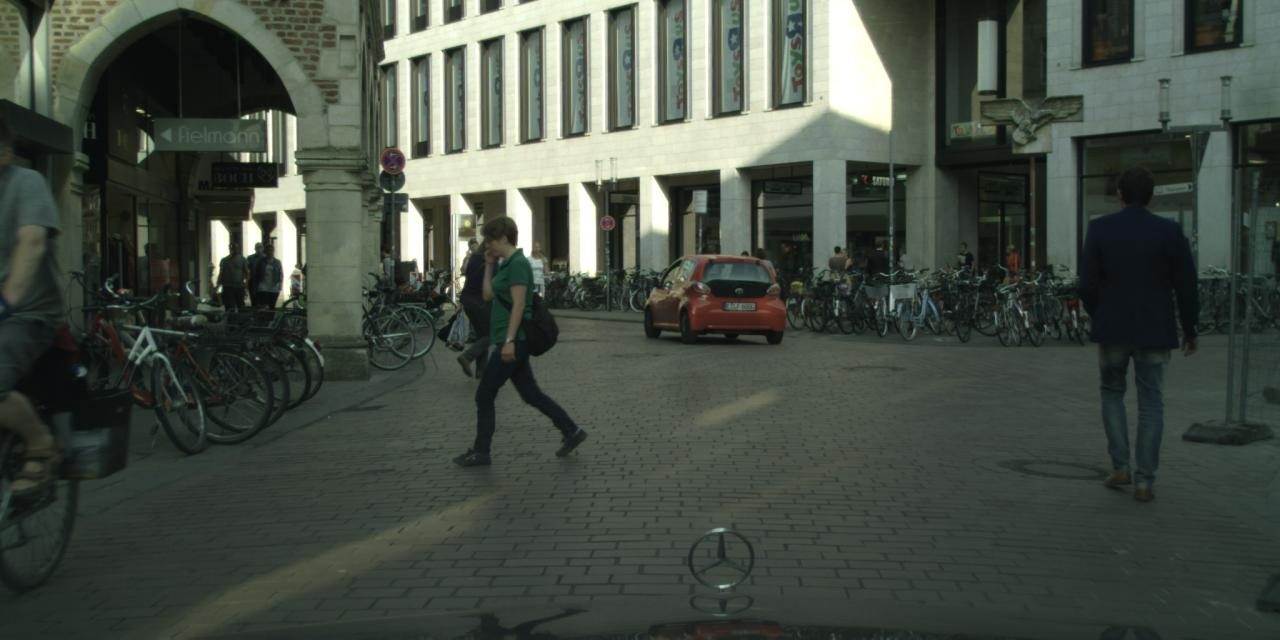ped: (1067, 164, 1200, 490), (461, 215, 560, 456), (455, 233, 512, 374), (217, 241, 254, 331), (250, 243, 285, 329), (241, 242, 276, 326), (462, 238, 492, 317), (520, 241, 551, 317), (369, 244, 400, 319), (864, 237, 894, 313), (746, 248, 775, 320), (824, 245, 851, 313), (698, 245, 725, 311), (832, 247, 858, 312), (731, 250, 756, 314), (952, 242, 977, 305), (1000, 244, 1024, 302), (894, 248, 916, 300)
